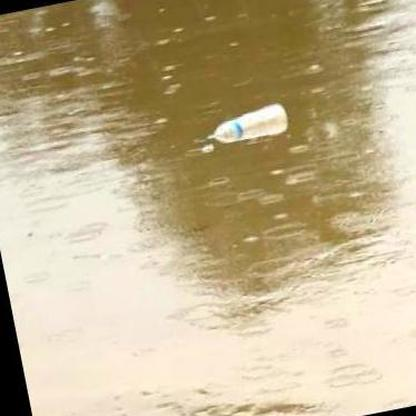plastic bottle: (210, 103, 288, 143)
